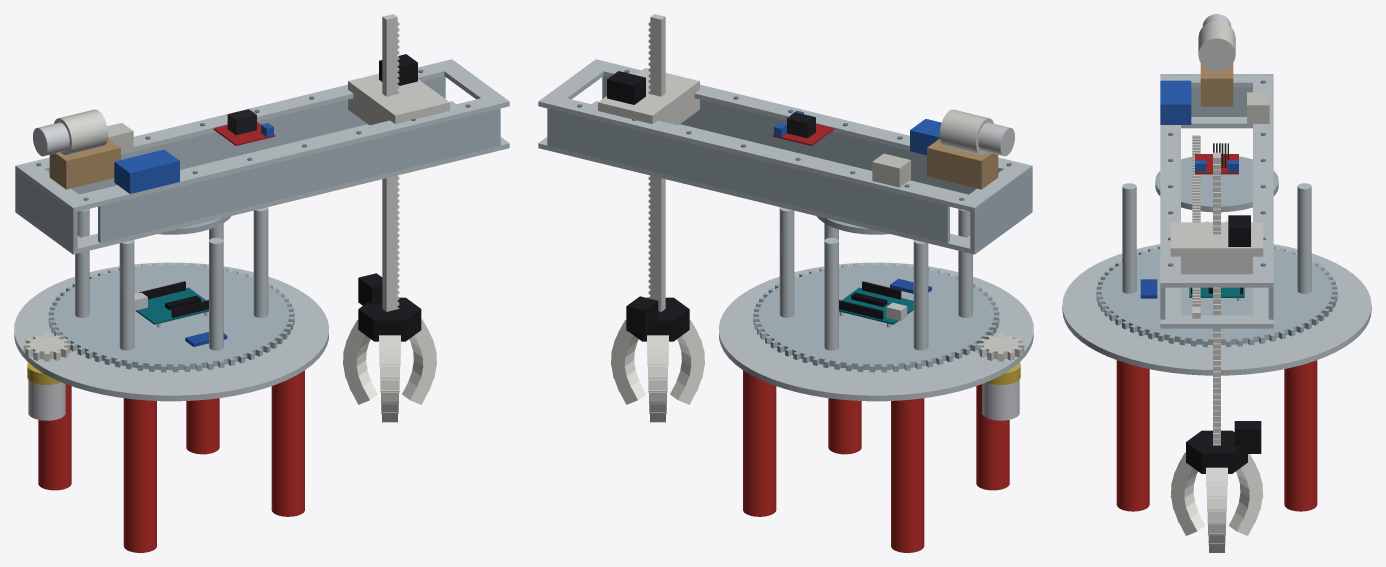
File: robotic_arm.glb
3 renders of one model, left to right at view 1: azimuth 30°, elevation 25°; view 2: azimuth 150°, elevation 25°; view 3: azimuth 270°, elevation 25°, orthographic.
Visible parts, largest first — view 1: robotic_arm; view 2: robotic_arm; view 3: robotic_arm.
Boxes of the visible parts, box(x1,y1,x2,y2) form: robotic_arm: box(14, 14, 509, 552); robotic_arm: box(538, 14, 1033, 552); robotic_arm: box(1062, 14, 1371, 552).
Size of the model in its own units: 0.4991 by 0.448 by 0.3.
